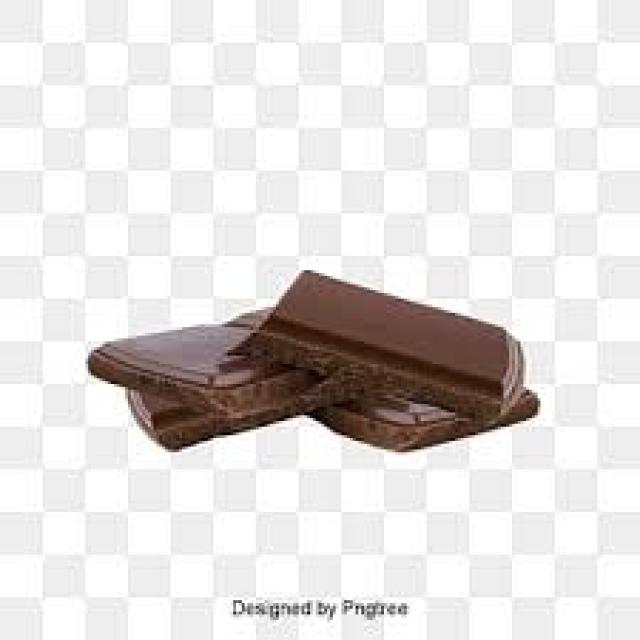Chocolate: (79, 268, 544, 456)
